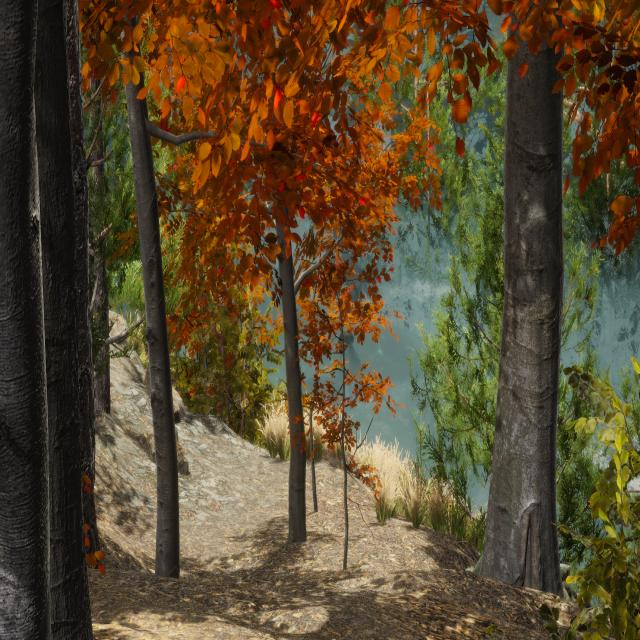Human: (336, 309, 380, 400)
